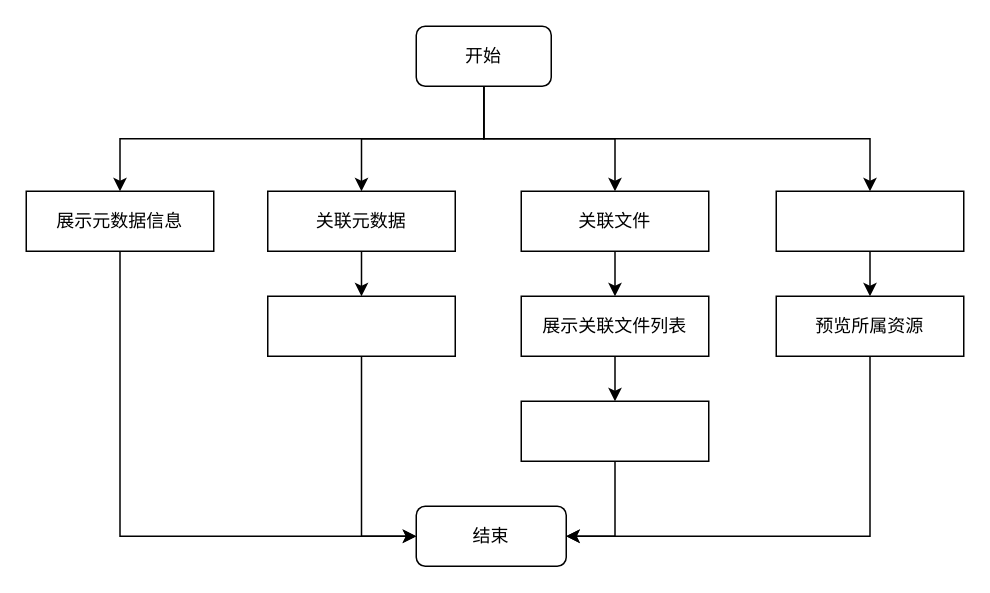
Image size: 990x593. Some labels were removed from this diagram. The shapes that lost their labels are listed below. From the top down, each one's centre as x and y in pixels, then its label:
the point at 869,220: 关联资源
the point at 360,325: 展示关联元数据列表
the point at 614,430: 预览文件
